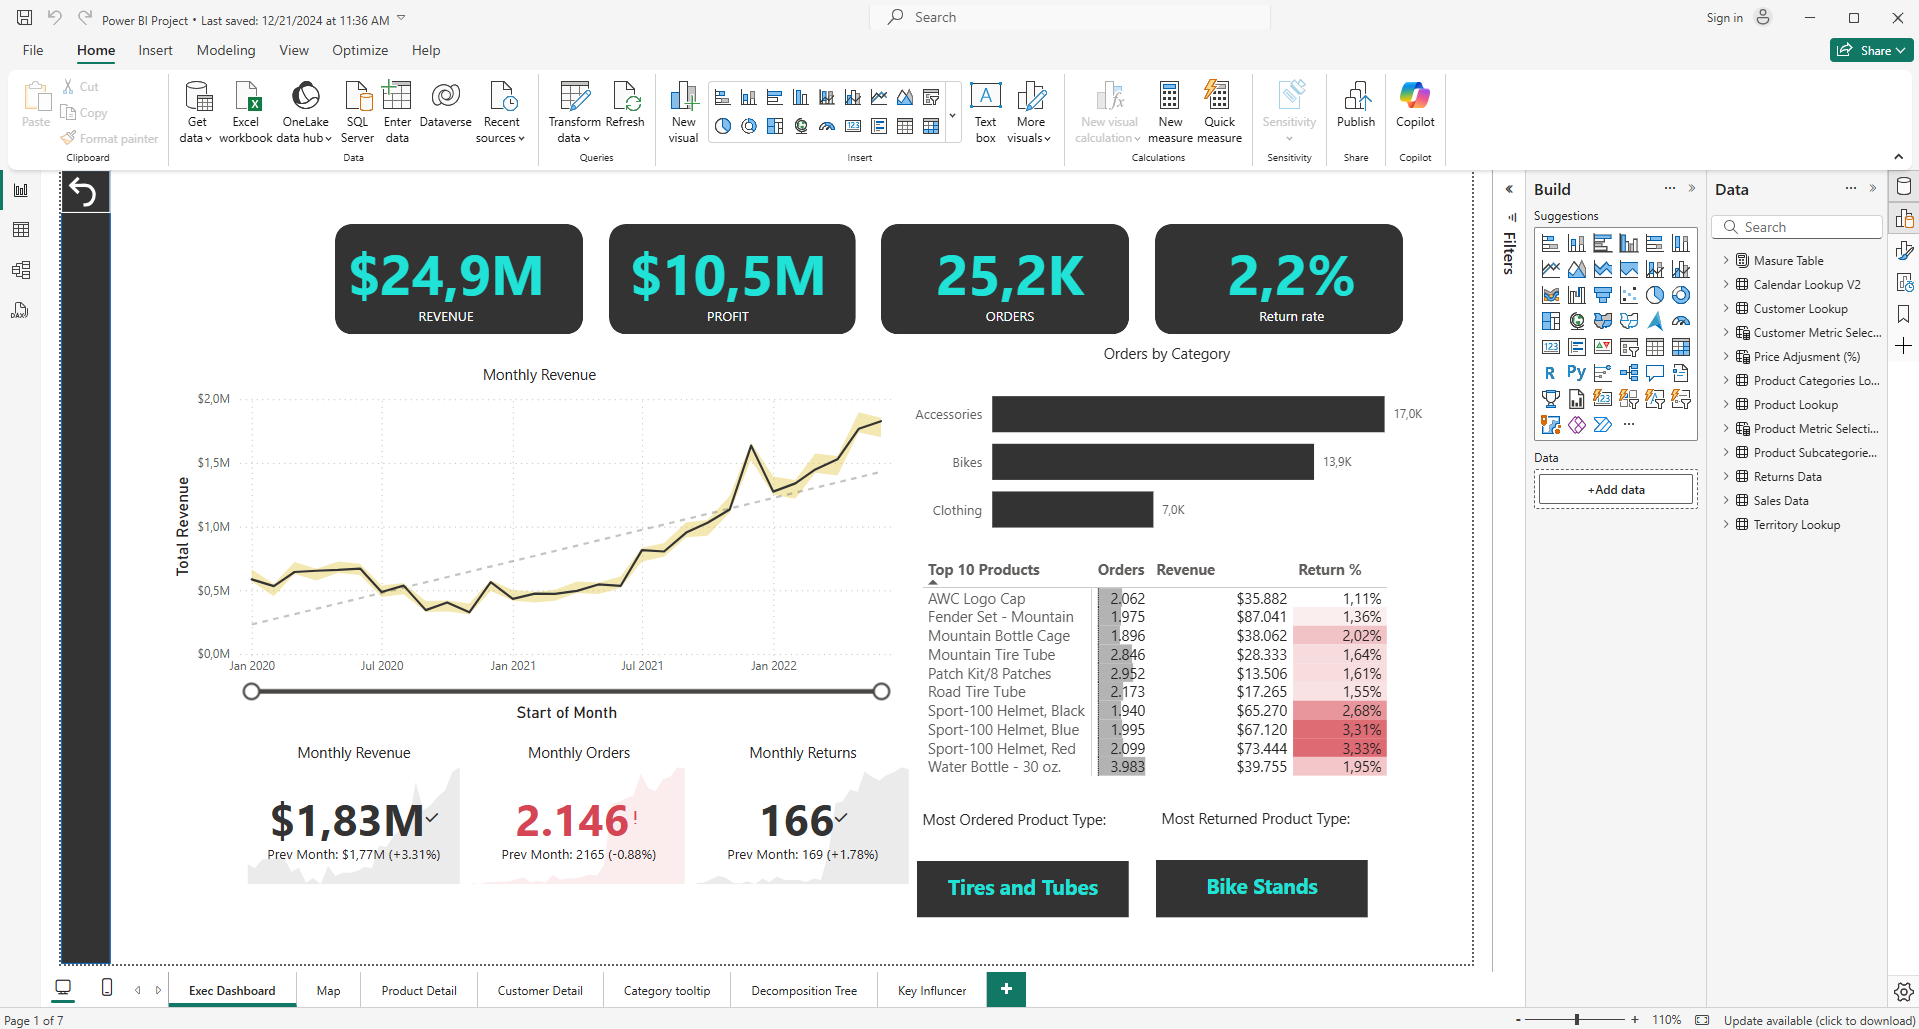

The page's visual inventory and layout, read from the dashboard file:
{"tool":"powerbi","page":{"name":"Exec Dashboard","canvas":[1280,720],"ordinal":0},"visuals":[{"type":"shape","title":"Left Nav Background","box":[0,0,45,720],"z":0},{"type":"card","fields":{"Values":["Masure Table.Total Profit"]},"box":[445.9,0.4,318.1,200.4],"z":0,"group":"g3"},{"type":"shape","box":[248.1,49.7,225,100],"z":0,"group":"g2"},{"type":"group","id":"g1","title":"KPIs","box":[190.1,0.4,1083.9,200.4],"z":1000},{"type":"card","fields":{"Values":["Masure Table.Total Orders"]},"box":[701.7,0.4,318.1,200.4],"z":1000,"group":"g3"},{"type":"group","id":"g2","title":"KPI Background","box":[248.1,49.7,968.7,100.2],"z":1000,"group":"g1"},{"type":"shape","box":[496.1,49.7,224.3,100.2],"z":1000,"group":"g2"},{"type":"group","id":"g3","title":"KPI Values","box":[190.1,0.4,1083.9,200.4],"z":2000,"group":"g1"},{"type":"card","fields":{"Values":["Masure Table.Return rate"]},"box":[957.5,0.4,316.5,200.4],"z":2000,"group":"g3"},{"type":"shape","box":[743.4,49.7,225,100],"z":2000,"group":"g2"},{"type":"lineChart","title":"Monthly Revenue","fields":{"Y":["Masure Table.Total Revenue"],"Category":["Calendar Lookup V2.Start of Month"]},"box":[96.7,176.7,673.3,328.3],"z":2000},{"type":"card","fields":{"Values":["Masure Table.Total Revenue"]},"box":[190.1,0.4,318.1,200.4],"z":3000,"group":"g3"},{"type":"shape","box":[991.4,49.7,225,100],"z":3000,"group":"g2"},{"type":"kpi","title":"Monthly Revenue","fields":{"Indicator":["Masure Table.Total Revenue"],"TrendLine":["Calendar Lookup V2.Start of Month"],"Goal":["Masure Table.Previous Month Revenue"]},"box":[164,520,203,133.3],"z":3000},{"type":"kpi","title":"Monthly Orders","fields":{"TrendLine":["Calendar Lookup V2.Start of Month"],"Indicator":["Masure Table.Total Orders"],"Goal":["Masure Table.Previus Month Orders"]},"box":[367.8,520,203,133.3],"z":4000},{"type":"kpi","title":"Monthly Returns","fields":{"TrendLine":["Calendar Lookup V2.Start of Month"],"Indicator":["Masure Table.Total Returns"],"Goal":["Masure Table.Previus Month Return"]},"box":[571.6,520,203,133.3],"z":5000},{"type":"clusteredBarChart","title":"Orders by Category","fields":{"Category":["Product Categories Lookup.CategoryName"],"Y":["Masure Table.Total Orders"]},"box":[764.2,157.6,476.9,190.6],"z":6000},{"type":"pivotTable","fields":{"Values":["Masure Table.Total Orders","Masure Table.Total Revenue","Masure Table.Return rate"],"Rows":["Product Lookup.ProductName"]},"box":[776.7,348.3,471.7,246.7],"z":7000},{"type":"card","fields":{"Values":["Min(Product Subcategories Lookup.SubcategoryName)"]},"box":[776.2,626.6,192.2,50.8],"z":8000},{"type":"textbox","box":[776.7,575,205,31.7],"z":9000},{"type":"card","fields":{"Values":["Min(Product Subcategories Lookup.SubcategoryName)"]},"box":[992.9,625.7,192.2,51.7],"z":10000},{"type":"textbox","box":[993.3,574.3,205,31.7],"z":11000},{"type":"actionButton","box":[0,0,45.3,39.5],"z":12000}]}

Visuals, with their boxes on the page's 1280x720 design canvas (x1, y1, x2, y2). These are canvas units, not pixel positions in the 1919x1029 screenshot, which may show the page scaled, cropped or inside an application window:
"Left Nav Background" shape: (left=0, top=0, right=45, bottom=720)
card - Masure Table.Total Profit: (left=446, top=0, right=764, bottom=201)
shape: (left=248, top=50, right=473, bottom=150)
"KPIs" group: (left=190, top=0, right=1274, bottom=201)
card - Masure Table.Total Orders: (left=702, top=0, right=1020, bottom=201)
"KPI Background" group: (left=248, top=50, right=1217, bottom=150)
shape: (left=496, top=50, right=720, bottom=150)
"KPI Values" group: (left=190, top=0, right=1274, bottom=201)
card - Masure Table.Return rate: (left=958, top=0, right=1274, bottom=201)
shape: (left=743, top=50, right=968, bottom=150)
"Monthly Revenue" lineChart: (left=97, top=177, right=770, bottom=505)
card - Masure Table.Total Revenue: (left=190, top=0, right=508, bottom=201)
shape: (left=991, top=50, right=1216, bottom=150)
"Monthly Revenue" kpi: (left=164, top=520, right=367, bottom=653)
"Monthly Orders" kpi: (left=368, top=520, right=571, bottom=653)
"Monthly Returns" kpi: (left=572, top=520, right=775, bottom=653)
"Orders by Category" clusteredBarChart: (left=764, top=158, right=1241, bottom=348)
pivotTable - Masure Table.Total Orders x Masure Table.Total Revenue: (left=777, top=348, right=1248, bottom=595)
card - Min(Product Subcategories Lookup.SubcategoryName): (left=776, top=627, right=968, bottom=677)
textbox: (left=777, top=575, right=982, bottom=607)
card - Min(Product Subcategories Lookup.SubcategoryName): (left=993, top=626, right=1185, bottom=677)
textbox: (left=993, top=574, right=1198, bottom=606)
actionButton: (left=0, top=0, right=45, bottom=40)
